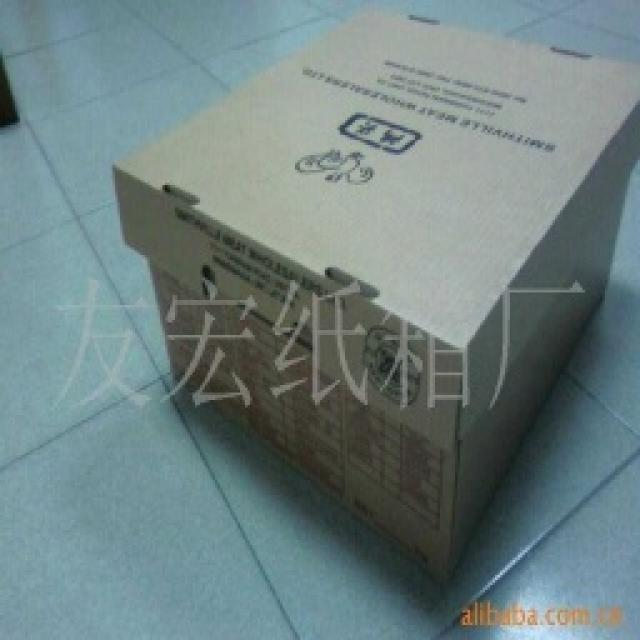box: (115, 5, 640, 607)
